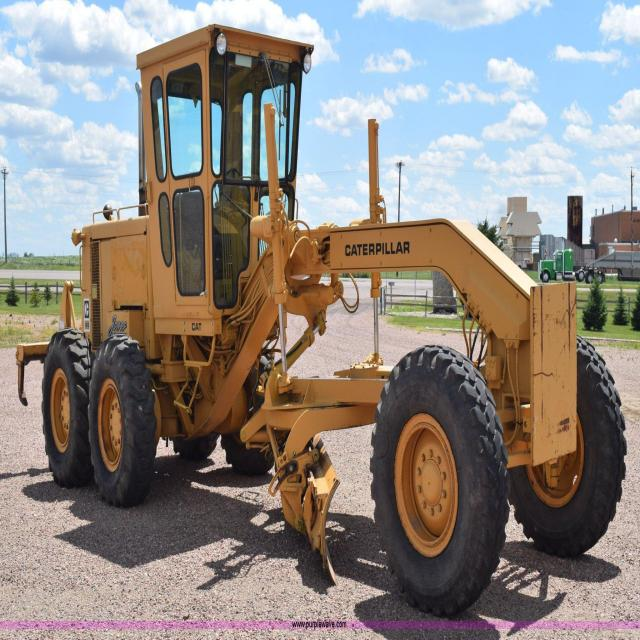Grader: (11, 26, 637, 603)
